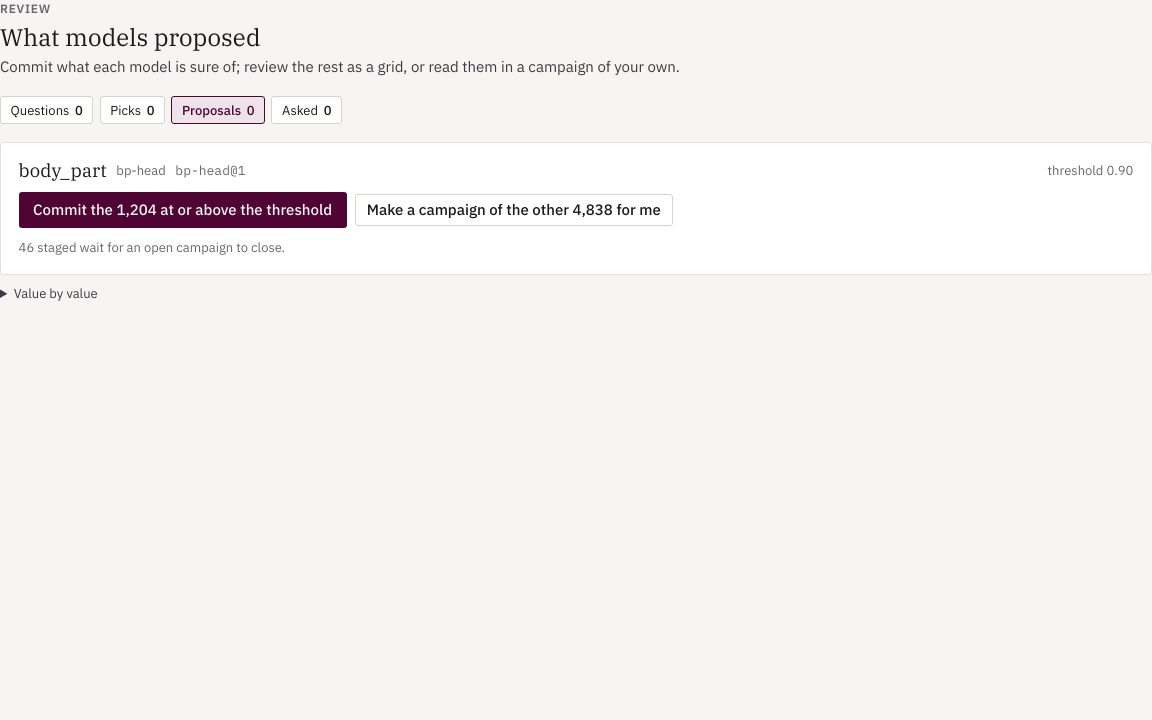
the Proposals page › says a refusal and stays open
Click the button "Make a campaign of the other 4,838 for me".
click(514, 210)  # box [355,194,673,226]
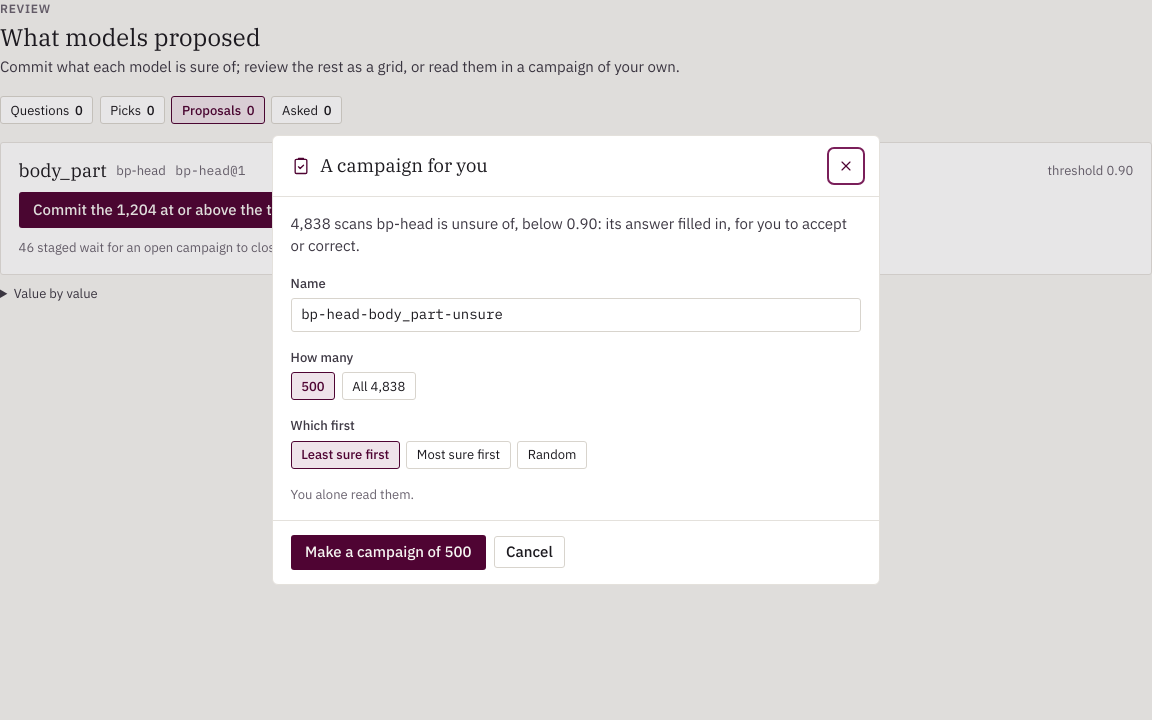
Click the button "Make a campaign of 500".
click(388, 552)  # box [291,535,486,570]
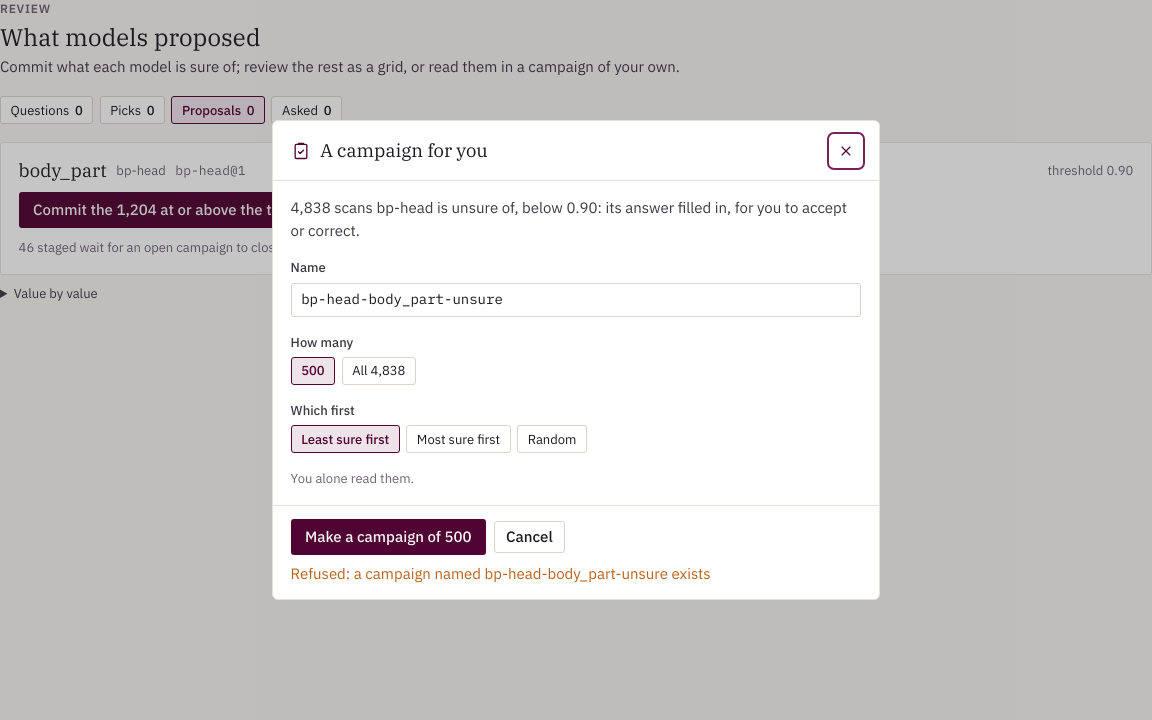
Expected: the text with class "warn" reads "Refused: a campaign named bp-head-body_part-unsure exists", [291,564,711,583]
